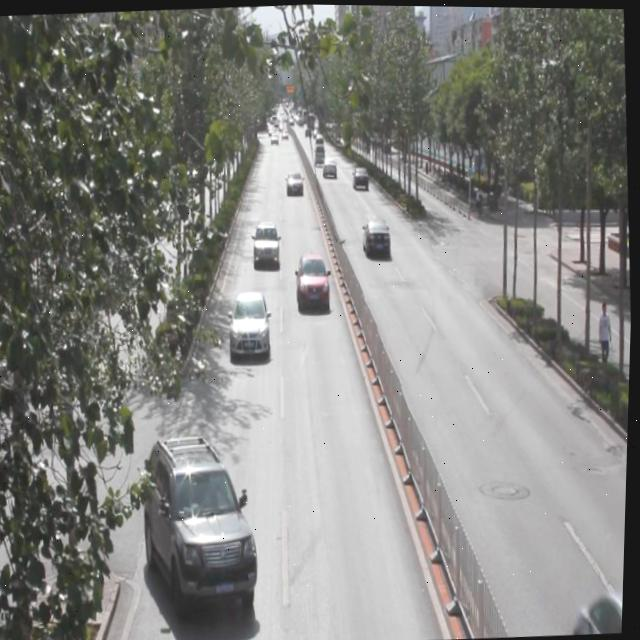car: (140, 430, 266, 619), (229, 288, 275, 360), (571, 583, 627, 633), (294, 251, 335, 312), (252, 219, 282, 268), (362, 215, 394, 259), (286, 169, 305, 196), (352, 164, 371, 189), (322, 154, 339, 179)
truck: (313, 141, 327, 164)
